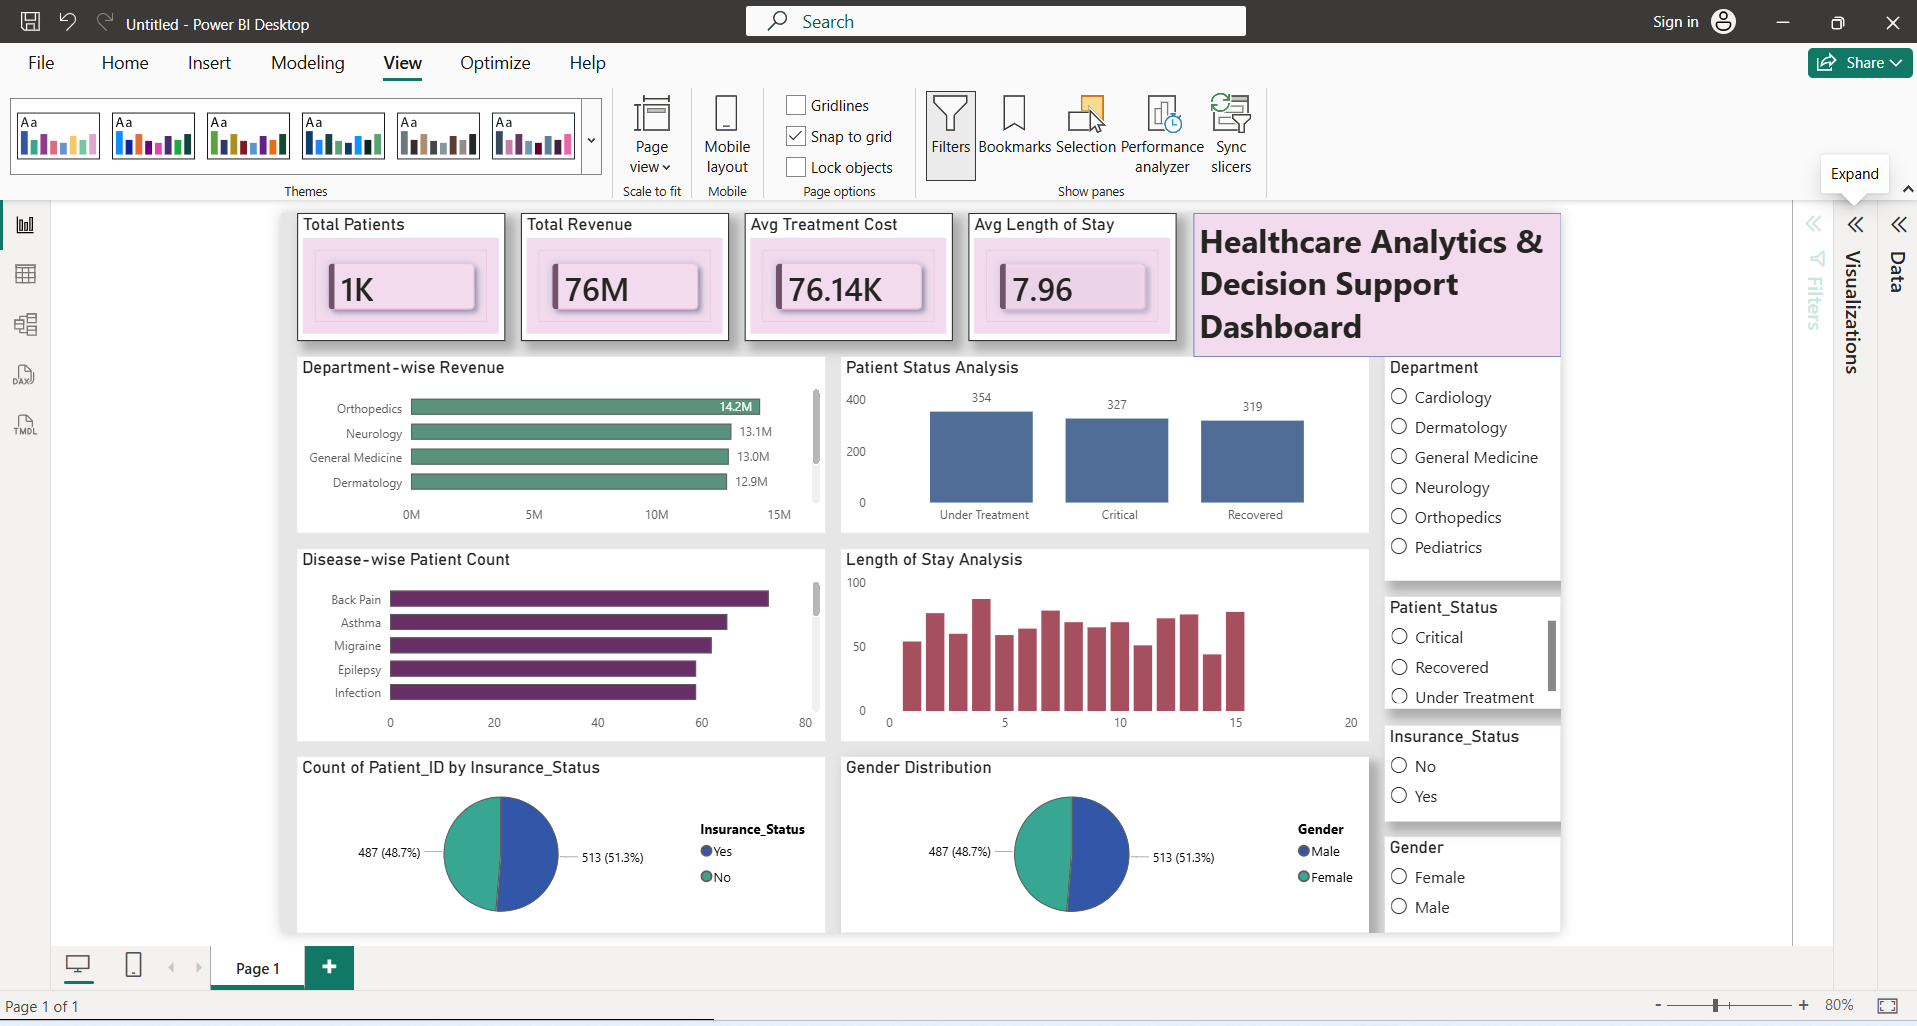

The dashboard page shown, as its layout file describes it:
{"tool":"powerbi","page":{"name":"Page 1","canvas":[1280,720],"ordinal":0},"visuals":[{"type":"cardVisual","title":"Total Patients","fields":{"Data":["CountNonNull(Sheet1.Patient_ID)"]},"box":[16,0,208,128],"z":0},{"type":"cardVisual","title":"Total Revenue","fields":{"Data":["Sum(Sheet1.Treatment_Cost)"]},"box":[240,0,208,128],"z":1000},{"type":"cardVisual","title":"Avg Treatment Cost","fields":{"Data":["Avg(Sheet1.Treatment_Cost)"]},"box":[464,0,208,128],"z":2000},{"type":"cardVisual","title":"Avg Length of Stay","fields":{"Data":["Avg(Sheet1.Length_of_Stay)"]},"box":[688,0,208,128],"z":3000},{"type":"clusteredBarChart","title":"Department-wise Revenue","fields":{"Category":["Sheet1.Department"],"Y":["Sum(Sheet1.Treatment_Cost)"]},"box":[16,144,528,176],"z":4000},{"type":"pieChart","title":"Gender Distribution","fields":{"Category":["Sheet1.Gender"],"Y":["CountNonNull(Sheet1.Patient_ID)"]},"box":[560,544,528,176],"z":5000},{"type":"pieChart","fields":{"Category":["Sheet1.Insurance_Status"],"Y":["CountNonNull(Sheet1.Patient_ID)"]},"box":[16,544,528,176],"z":6000},{"type":"clusteredColumnChart","title":"Patient Status Analysis","fields":{"Category":["Sheet1.Patient_Status"],"Y":["CountNonNull(Sheet1.Patient_ID)"]},"box":[560,144,528,176],"z":7000},{"type":"clusteredBarChart","title":"Disease-wise Patient Count","fields":{"Category":["Sheet1.Disease"],"Y":["CountNonNull(Sheet1.Patient_ID)"]},"box":[16,336,528,192],"z":8000},{"type":"clusteredColumnChart","title":"Length of Stay Analysis","fields":{"Category":["Sheet1.Length_of_Stay"],"Y":["CountNonNull(Sheet1.Patient_ID)"]},"box":[560,336,528,192],"z":9000},{"type":"listSlicer","fields":{"Values":["Sheet1.Department"]},"box":[1104,144,176,224],"z":10000},{"type":"listSlicer","fields":{"Values":["Sheet1.Gender"]},"box":[1104,624,176,96],"z":11000},{"type":"listSlicer","fields":{"Values":["Sheet1.Insurance_Status"]},"box":[1104,512,176,96],"z":12000},{"type":"listSlicer","fields":{"Values":["Sheet1.Patient_Status"]},"box":[1104,384,176,112],"z":13000},{"type":"textbox","box":[912,0,368,144],"z":14000}]}

Visuals, with their boxes on the page's 1280x720 design canvas (x1, y1, x2, y2). These are canvas units, not pixel positions in the 1917x1026 screenshot, which may show the page scaled, cropped or inside an application window:
"Total Patients" cardVisual: x1=16 y1=0 x2=224 y2=128
"Total Revenue" cardVisual: x1=240 y1=0 x2=448 y2=128
"Avg Treatment Cost" cardVisual: x1=464 y1=0 x2=672 y2=128
"Avg Length of Stay" cardVisual: x1=688 y1=0 x2=896 y2=128
"Department-wise Revenue" clusteredBarChart: x1=16 y1=144 x2=544 y2=320
"Gender Distribution" pieChart: x1=560 y1=544 x2=1088 y2=720
pieChart - Sheet1.Insurance_Status x CountNonNull(Sheet1.Patient_ID): x1=16 y1=544 x2=544 y2=720
"Patient Status Analysis" clusteredColumnChart: x1=560 y1=144 x2=1088 y2=320
"Disease-wise Patient Count" clusteredBarChart: x1=16 y1=336 x2=544 y2=528
"Length of Stay Analysis" clusteredColumnChart: x1=560 y1=336 x2=1088 y2=528
listSlicer - Sheet1.Department: x1=1104 y1=144 x2=1280 y2=368
listSlicer - Sheet1.Gender: x1=1104 y1=624 x2=1280 y2=720
listSlicer - Sheet1.Insurance_Status: x1=1104 y1=512 x2=1280 y2=608
listSlicer - Sheet1.Patient_Status: x1=1104 y1=384 x2=1280 y2=496
textbox: x1=912 y1=0 x2=1280 y2=144
